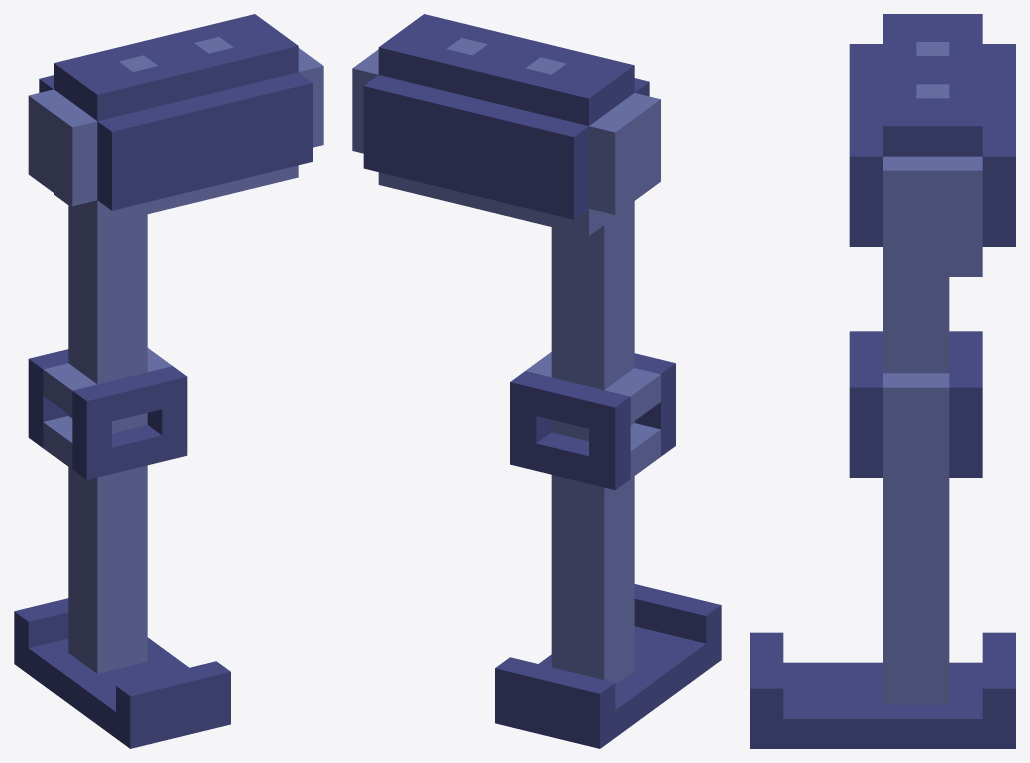
File: pelvis.fbx
3 views of the same model, side by side, from view 1: azimuth 30°, elevation 25°; view 2: azimuth 150°, elevation 25°; view 3: azimuth 270°, elevation 25° (orthographic). The views are drawn at different scales.
Parts seen in each view (by area): view 1: Default; view 2: Default; view 3: Default.
Part boxes in pixels (x1=…): Default: x1=14, y1=14, x2=323, y2=748; Default: x1=352, y1=14, x2=721, y2=748; Default: x1=750, y1=14, x2=1015, y2=748.
Bounding box in the file's own units: 10 × 23 × 8.
1 material, 1 textured.
